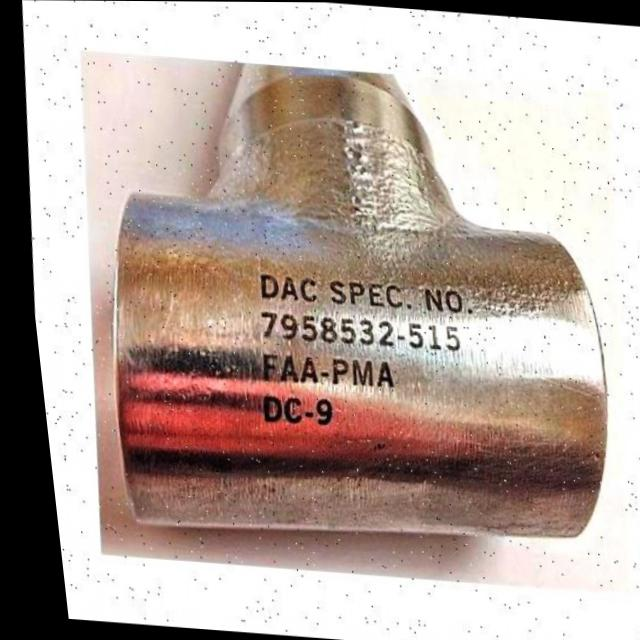ocr: (234, 266, 481, 450)
